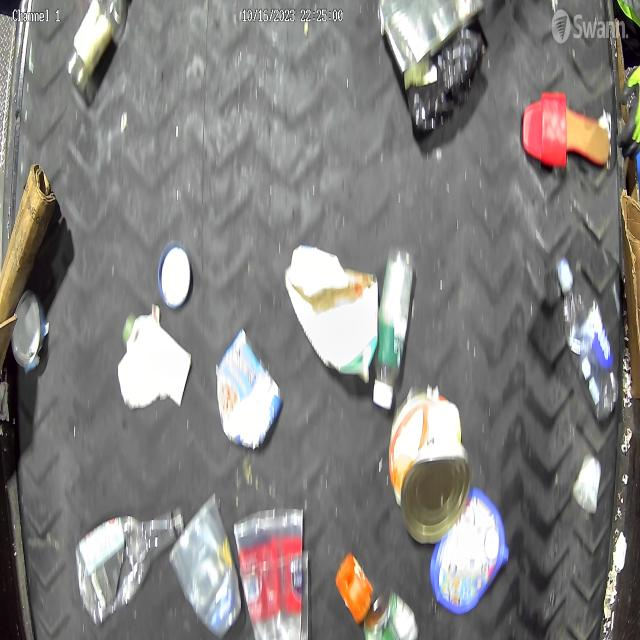can: (389, 386, 472, 546), (216, 328, 283, 449), (12, 288, 46, 374), (365, 587, 419, 640)
non_white_jug: (284, 245, 379, 382)
plastic_bottle: (79, 506, 185, 620), (556, 258, 618, 420), (373, 244, 412, 411), (67, 0, 122, 92)
